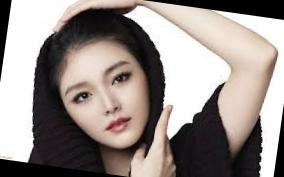Sober: (63, 51, 144, 146)
